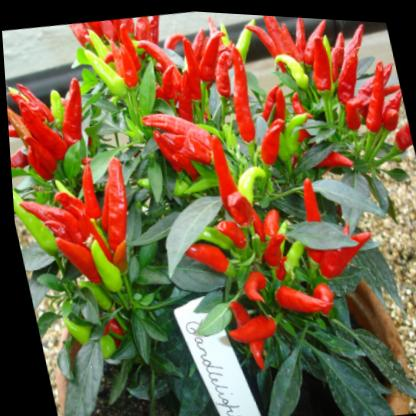chilli_pepper: (63, 8, 177, 108), (200, 114, 264, 238), (212, 23, 265, 150), (83, 148, 143, 258), (45, 68, 99, 160), (350, 49, 401, 136), (263, 263, 333, 322), (299, 23, 343, 112)
